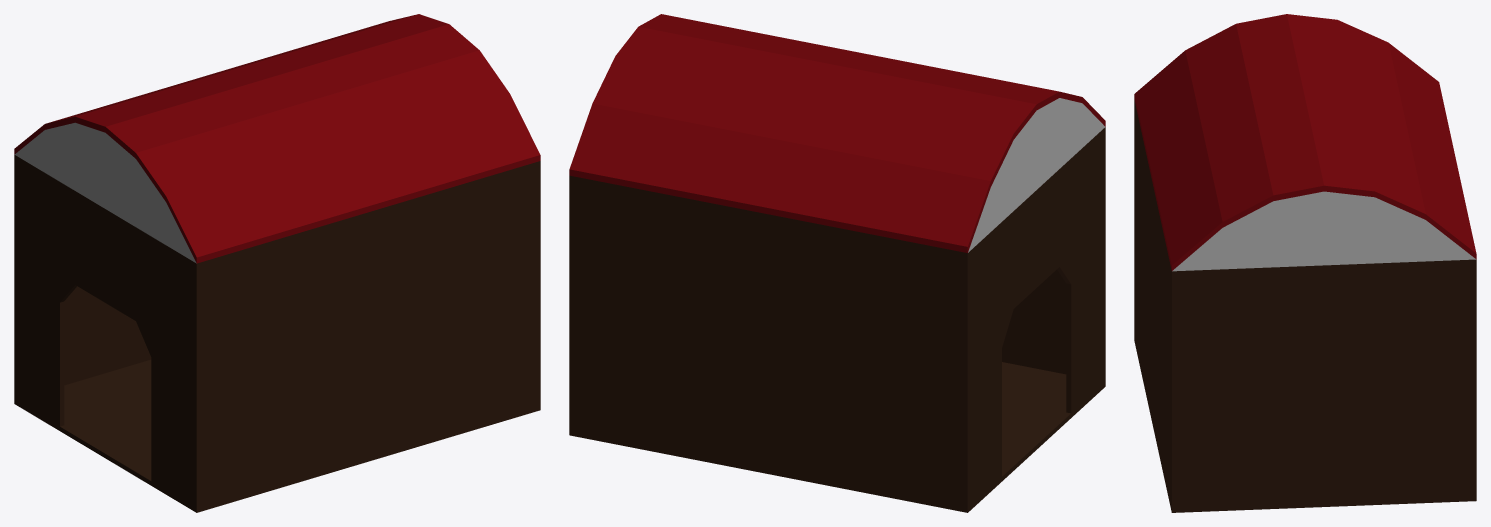
The model's file is schuur.fbx.
The picture shows the model from 3 angles, left to right: view 1: azimuth 30°, elevation 25°; view 2: azimuth 150°, elevation 25°; view 3: azimuth 270°, elevation 25°; orthographic projection. The views are drawn at different scales.
Parts seen in each view (by area): view 1: Barn; view 2: Barn; view 3: Barn.
Part boxes in pixels (left/top/right/bottom): Barn: left=14, top=14, right=540, bottom=512; Barn: left=569, top=14, right=1105, bottom=512; Barn: left=1134, top=14, right=1476, bottom=512.
Bounding box in the file's own units: 29.55 × 24.13 × 23.28.
